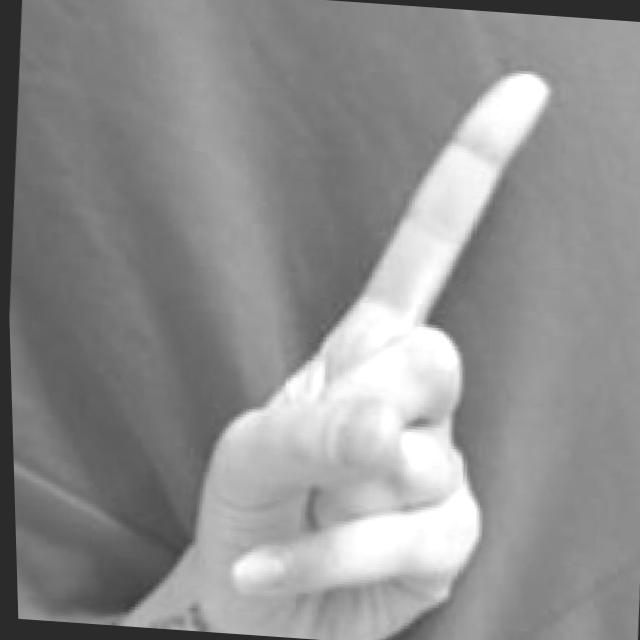I: (167, 49, 571, 640)
